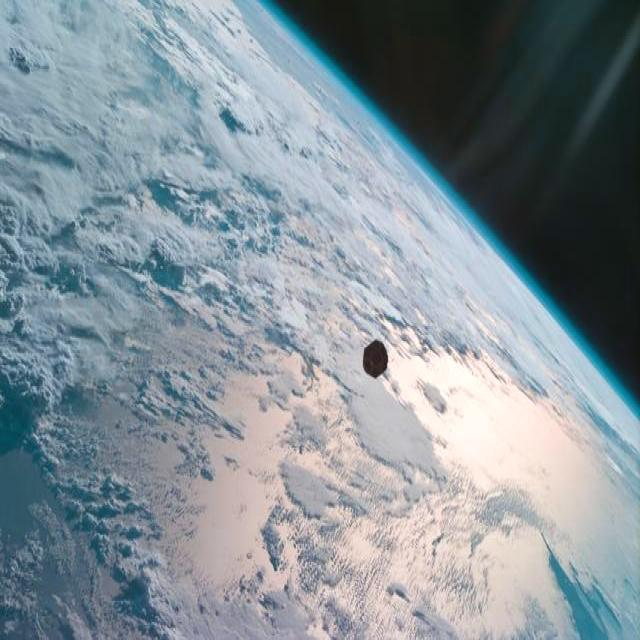medium_debris: (362, 340, 388, 377)
